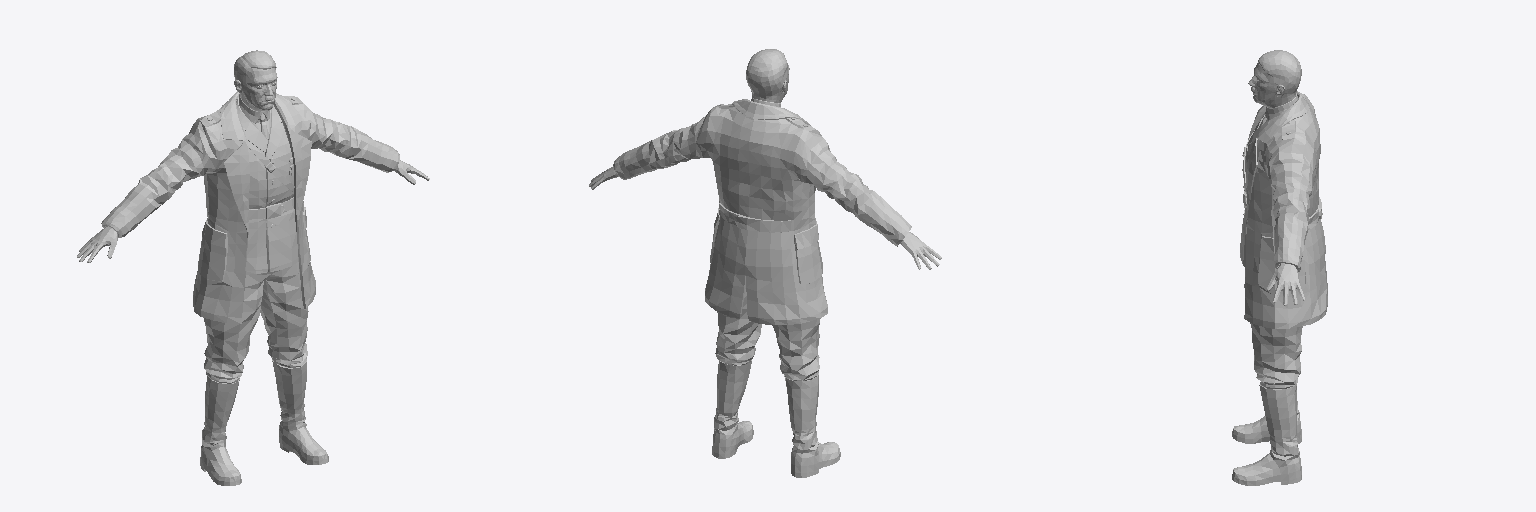
The model's file is hitler.obj.
3 views of the same model, side by side, from view 1: azimuth 30°, elevation 25°; view 2: azimuth 150°, elevation 25°; view 3: azimuth 270°, elevation 25° (orthographic).
Parts seen in each view (by area): view 1: hitler_body_hitler_body; view 2: hitler_body_hitler_body; view 3: hitler_body_hitler_body.
Boxes of the visible parts, <box> form: hitler_body_hitler_body: <box>77,50,429,485</box>; hitler_body_hitler_body: <box>589,49,941,477</box>; hitler_body_hitler_body: <box>1232,50,1327,485</box>.
Size of the model in its own units: 69.26 by 77.61 by 16.63.